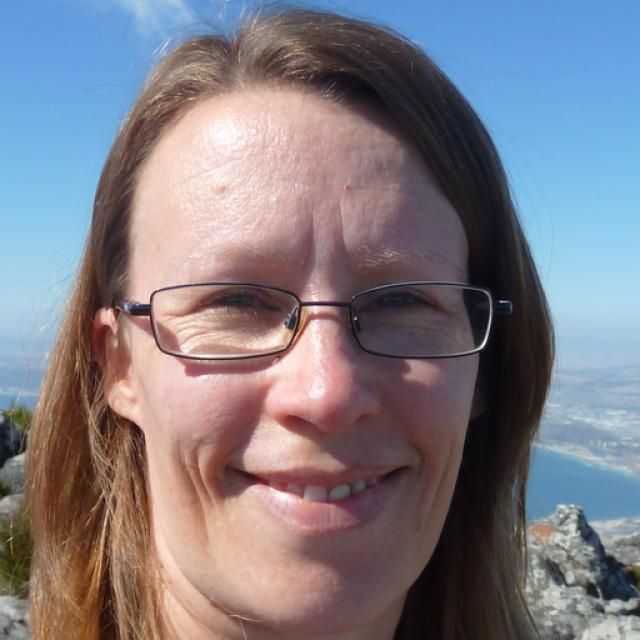Acne: (206, 176, 229, 196), (338, 178, 356, 193)
